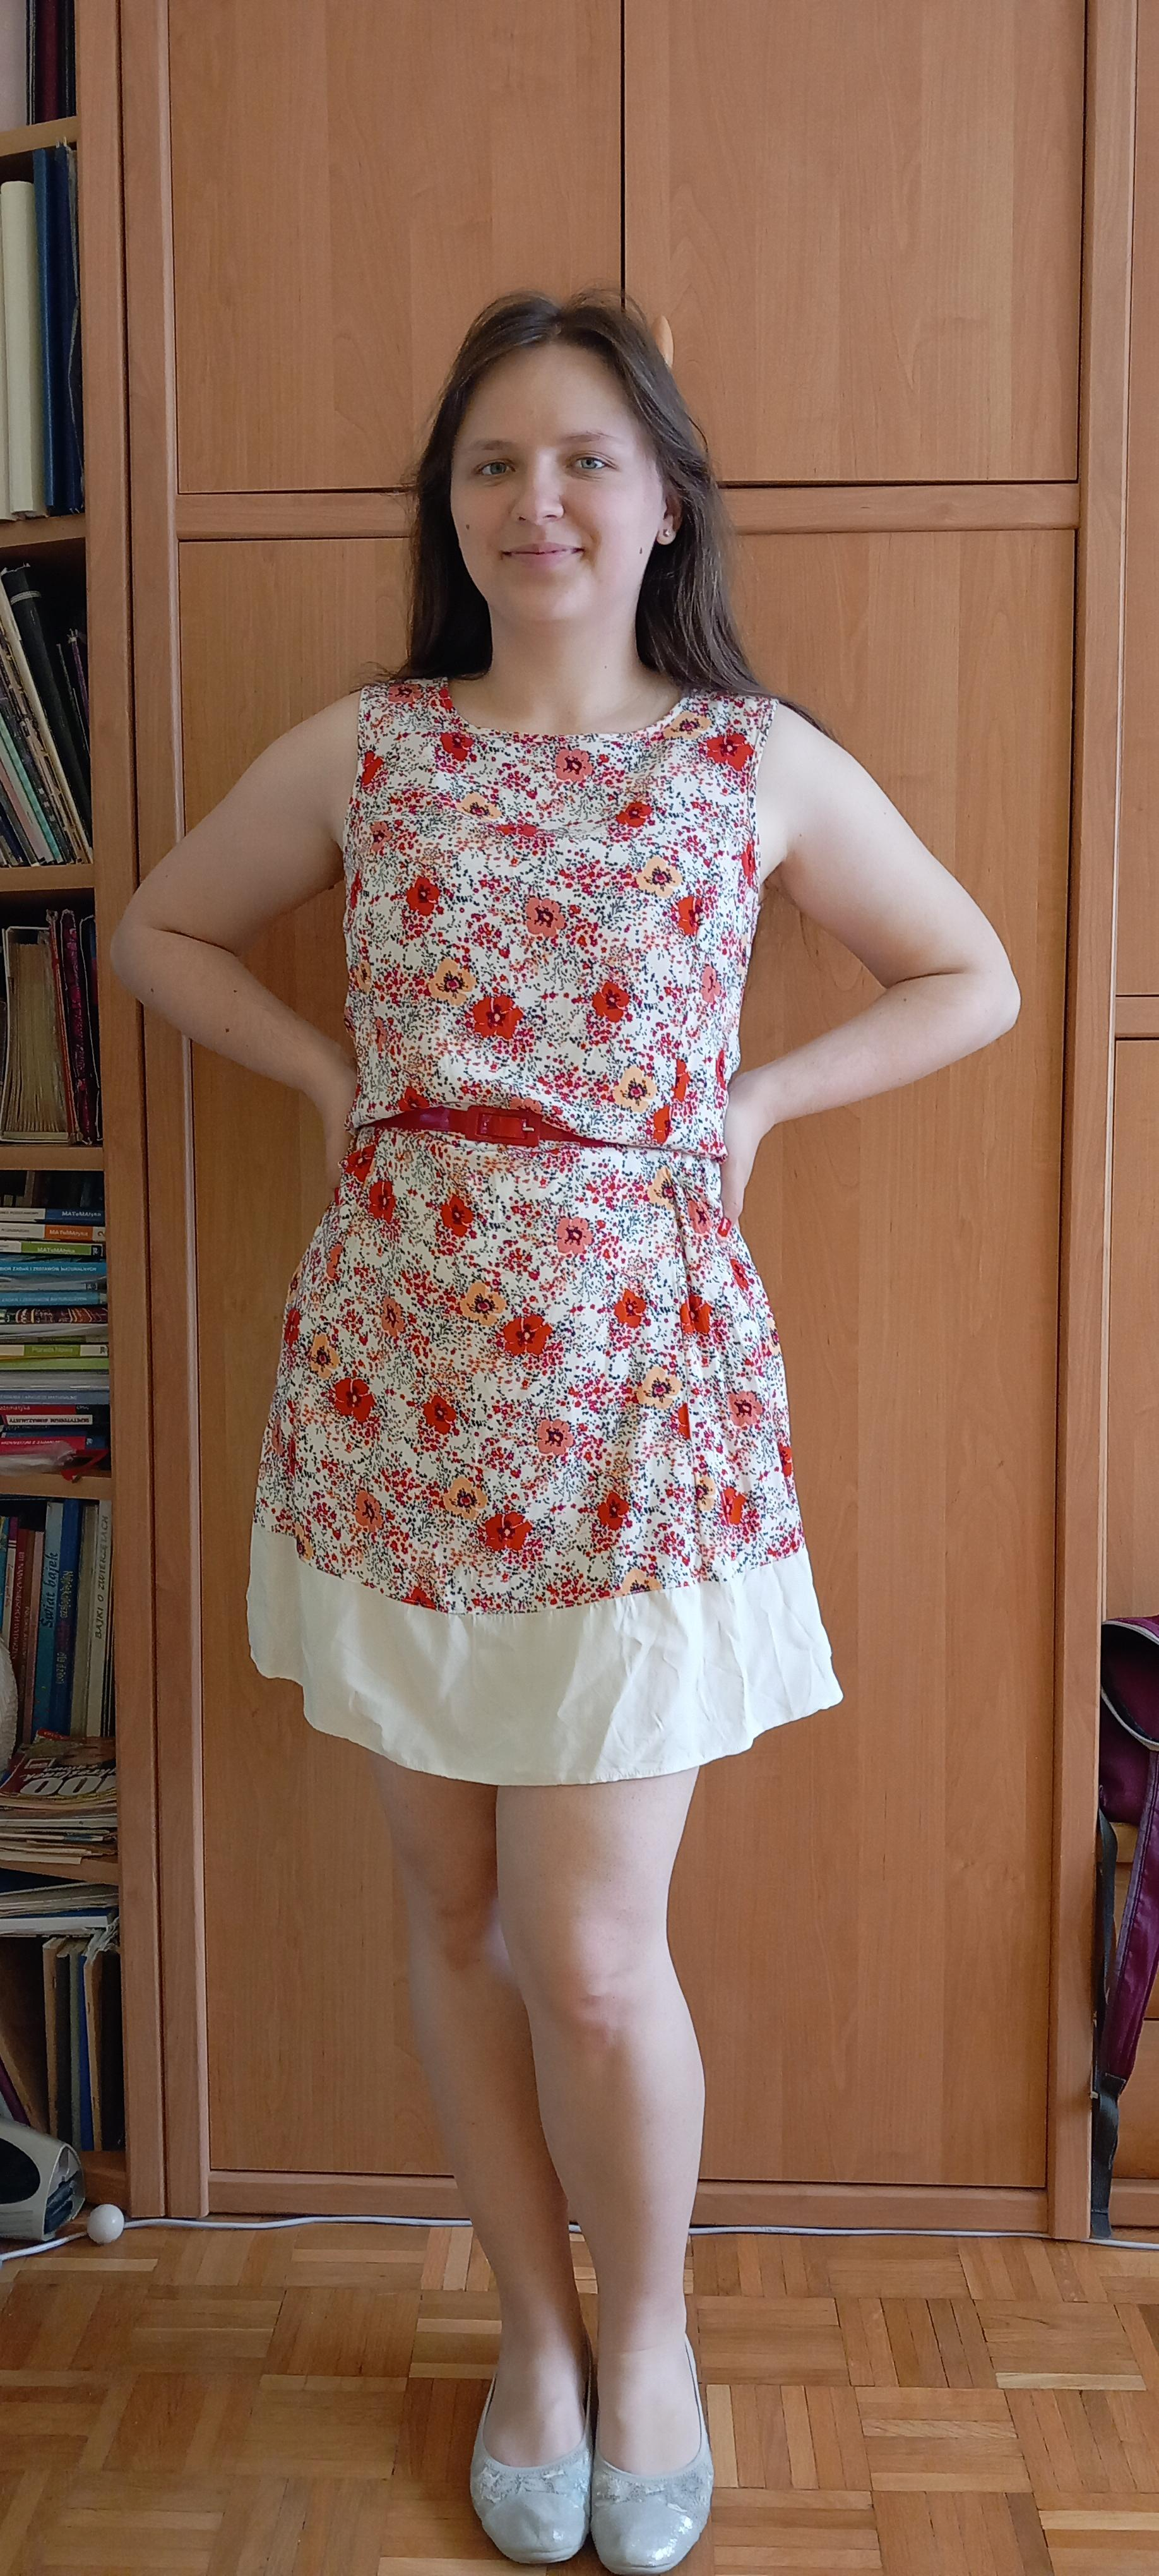dress: (241, 675, 842, 1789)
